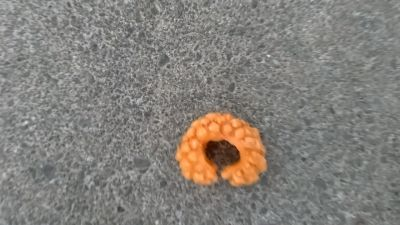eggs: (177, 113, 271, 188)
